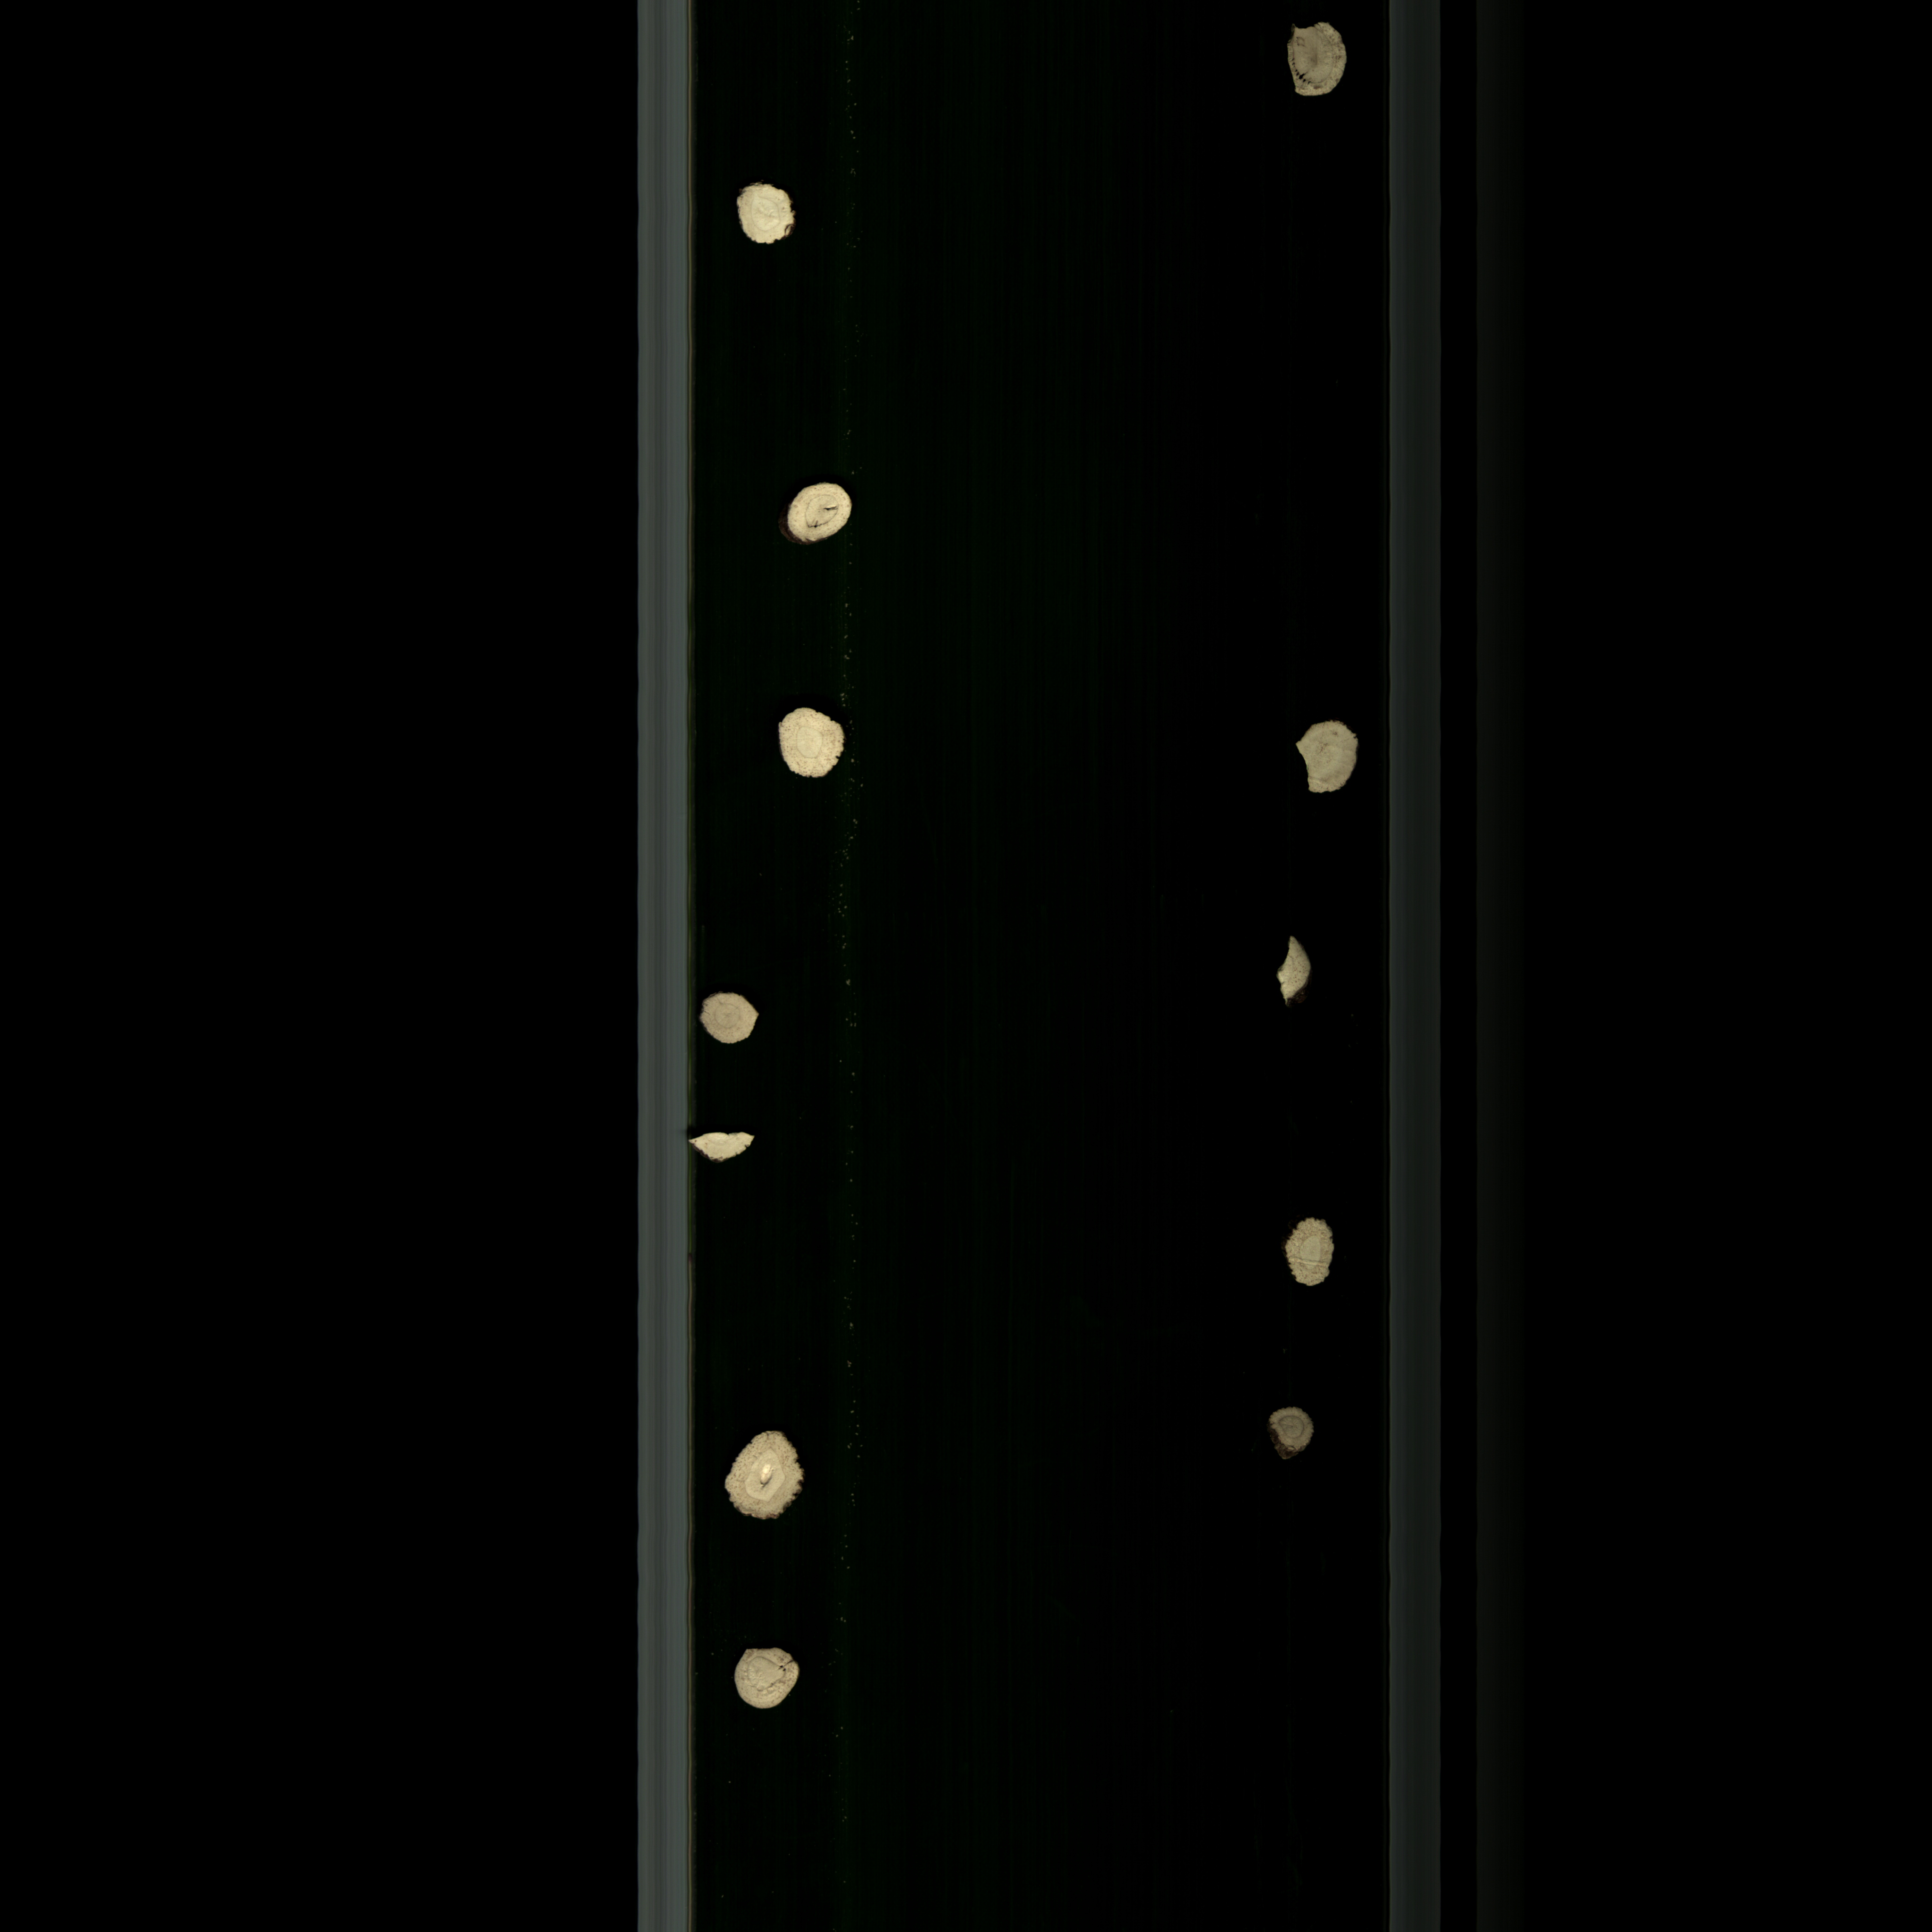debris: (1288, 713, 1369, 814), (732, 177, 810, 258), (697, 989, 770, 1056)
distortion: (676, 1120, 773, 1177)
dreg: (1274, 924, 1325, 1026)
hole: (709, 1419, 807, 1529), (761, 472, 862, 556)
moldy: (704, 1631, 817, 1729), (1277, 11, 1352, 124), (1270, 1212, 1352, 1295), (1261, 1398, 1320, 1460)
